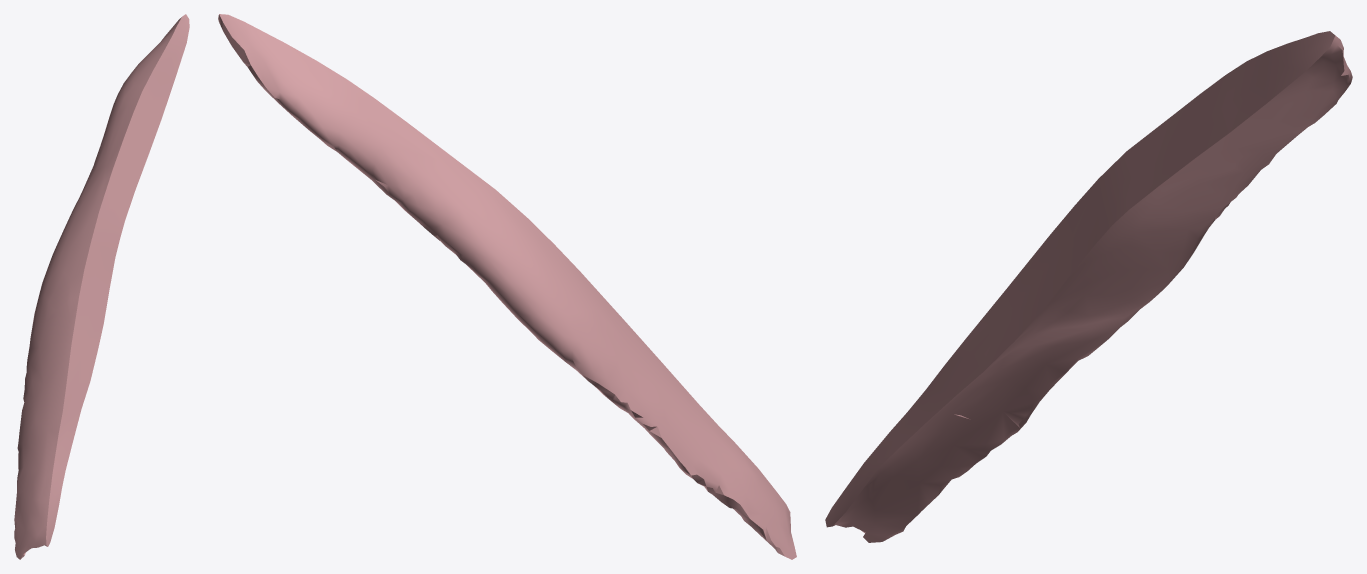
File: fma39297-f_mm1952.glb
3 views of the same model, side by side, from view 1: azimuth 30°, elevation 25°; view 2: azimuth 150°, elevation 25°; view 3: azimuth 270°, elevation 25° (orthographic). The views are drawn at different scales.
Visible parts, largest first — view 1: FMA39297-F_MM1952; view 2: FMA39297-F_MM1952; view 3: FMA39297-F_MM1952.
Boxes of the visible parts, left/top/right/bottom form: FMA39297-F_MM1952: left=14, top=14, right=189, bottom=559; FMA39297-F_MM1952: left=218, top=14, right=796, bottom=559; FMA39297-F_MM1952: left=825, top=31, right=1352, bottom=542.
Bounding box in the file's own units: 0.0168 × 0.0221 × 0.0135.
